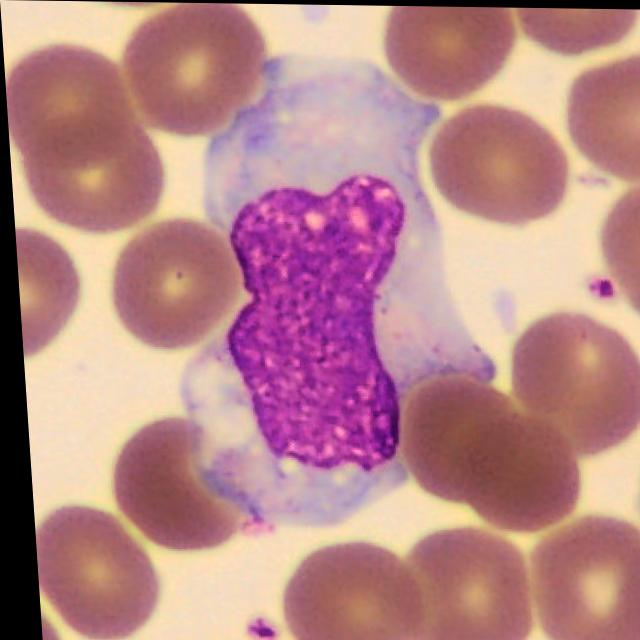Linfocito atipico: (176, 55, 490, 526)
